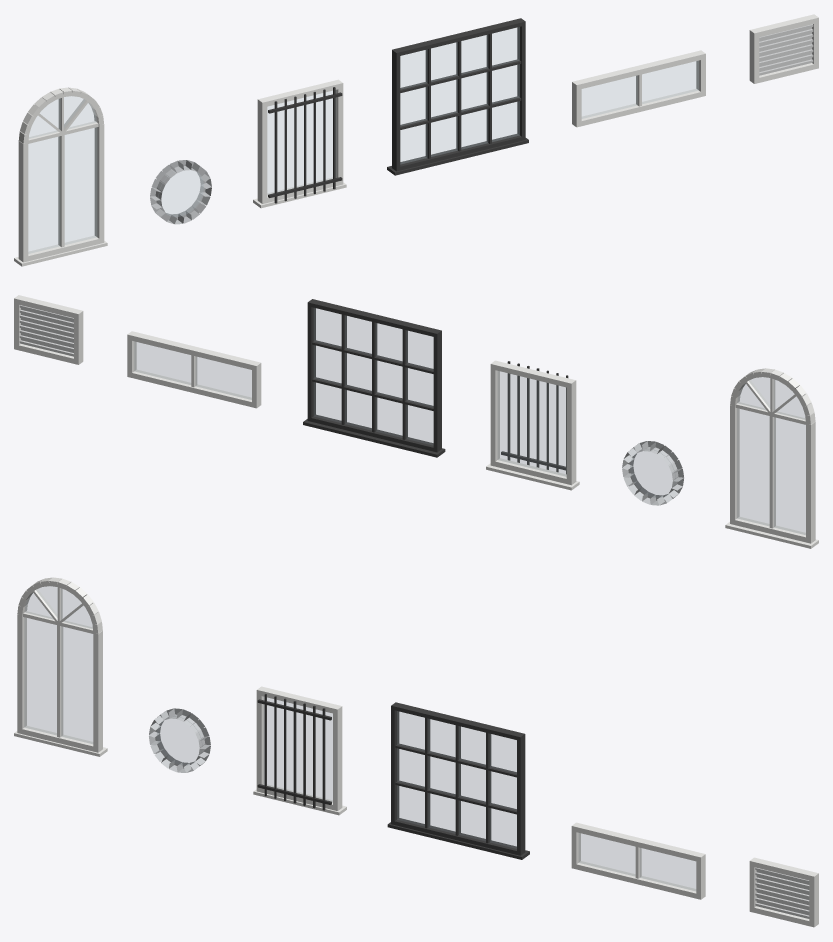
File: mlo_windows_special.glb
The picture shows the model from 3 angles, top to bottom: view 1: azimuth 30°, elevation 25°; view 2: azimuth 150°, elevation 25°; view 3: azimuth 330°, elevation 25°; orthographic projection.
Visible parts, largest first — view 1: Industrial_Grid, Arched_Top, Security_Bars, Transom_Wide, Vent_Louvre, Round_Porthole; view 2: Industrial_Grid, Arched_Top, Security_Bars, Transom_Wide, Vent_Louvre, Round_Porthole; view 3: Industrial_Grid, Arched_Top, Security_Bars, Transom_Wide, Vent_Louvre, Round_Porthole.
Part boxes in pixels (x1,y1,x2,y2): Industrial_Grid: [387, 18, 528, 175]; Arched_Top: [14, 87, 107, 266]; Security_Bars: [253, 79, 346, 208]; Transom_Wide: [572, 50, 705, 127]; Vent_Louvre: [749, 14, 818, 83]; Round_Porthole: [150, 160, 211, 224]; Industrial_Grid: [303, 299, 445, 457]; Arched_Top: [725, 368, 818, 548]; Security_Bars: [486, 360, 579, 490]; Transom_Wide: [127, 331, 261, 408]; Vent_Louvre: [14, 295, 83, 364]; Round_Porthole: [622, 441, 683, 505]; Industrial_Grid: [387, 702, 529, 859]; Arched_Top: [14, 577, 107, 756]; Security_Bars: [253, 686, 346, 815]; Transom_Wide: [571, 822, 705, 899]; Vent_Louvre: [749, 857, 818, 927]; Round_Porthole: [149, 708, 210, 772].
Size of the model in its own units: 9.88 by 1.93 by 0.215.
